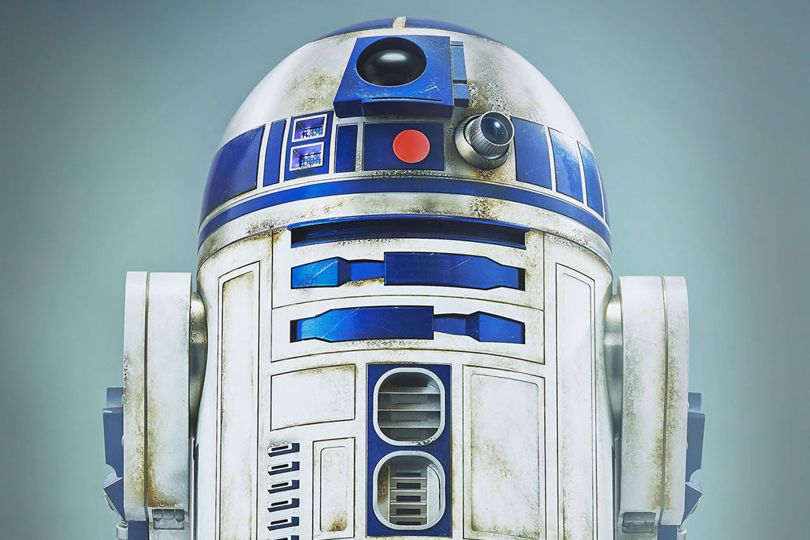r2d2: (123, 20, 687, 538)
